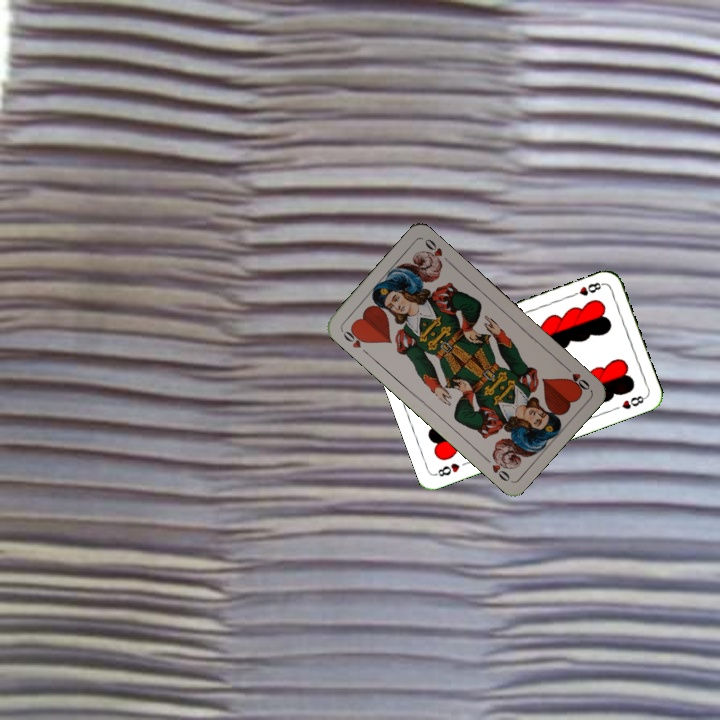H8: (567, 278, 606, 300), (432, 459, 462, 479)
HO: (338, 324, 372, 357), (560, 362, 593, 393)
